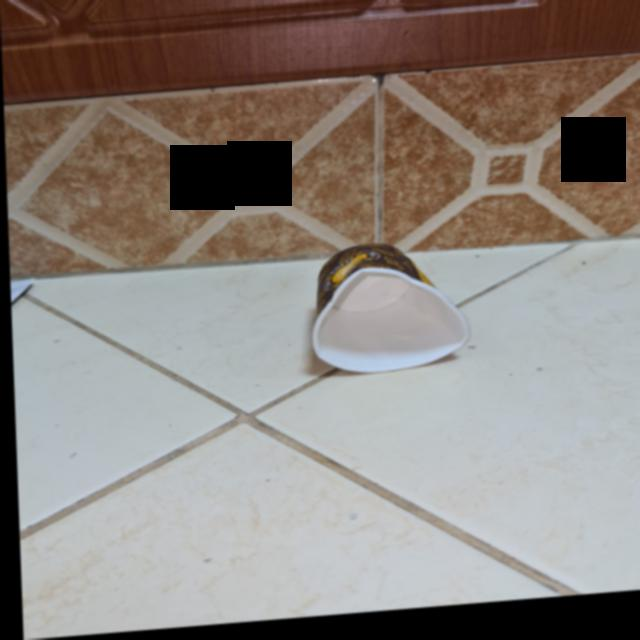cups: (301, 249, 472, 384)
